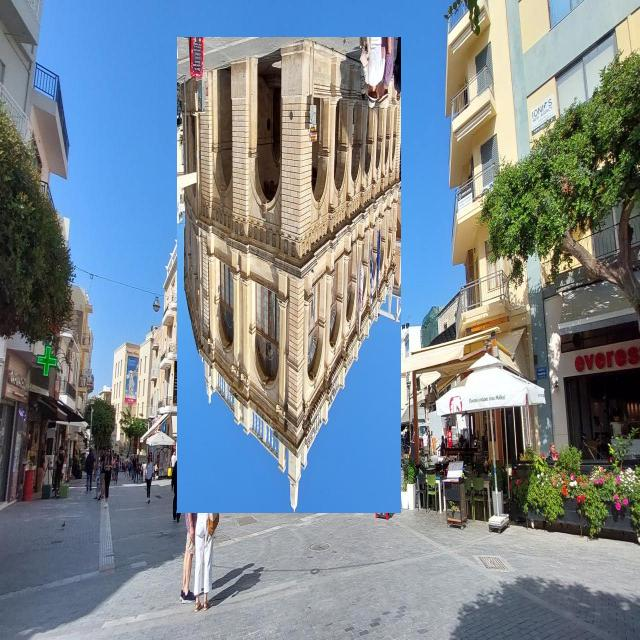Loggia: (179, 38, 403, 514)
